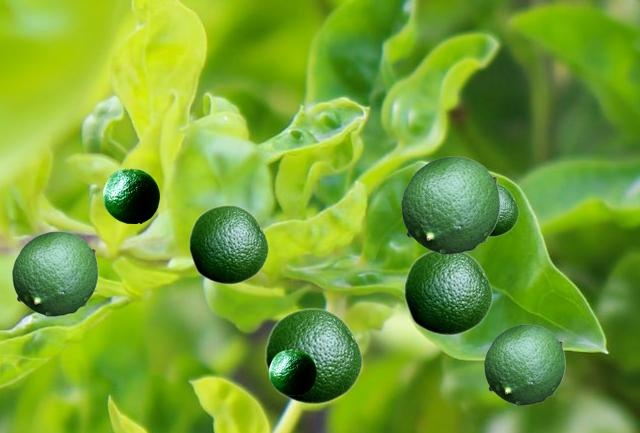calamansi: (264, 307, 362, 404), (401, 156, 499, 253), (403, 251, 492, 335), (12, 231, 97, 315), (484, 324, 564, 404), (188, 204, 268, 284), (103, 168, 158, 222), (269, 349, 315, 394), (490, 183, 518, 236)
